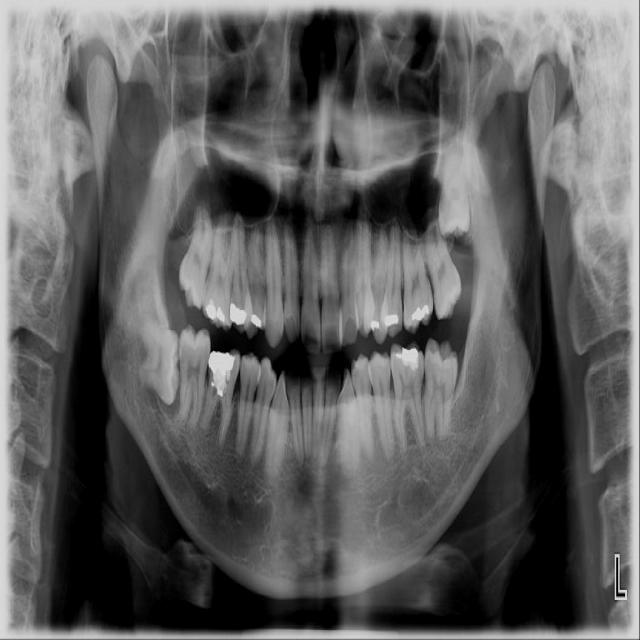Filling: (208, 349, 241, 397), (394, 347, 422, 369), (204, 303, 227, 326), (228, 302, 248, 326), (411, 304, 431, 323), (249, 313, 264, 329), (382, 313, 399, 326), (367, 319, 381, 330)
impacted tooth: (127, 329, 179, 403), (438, 143, 471, 235)
